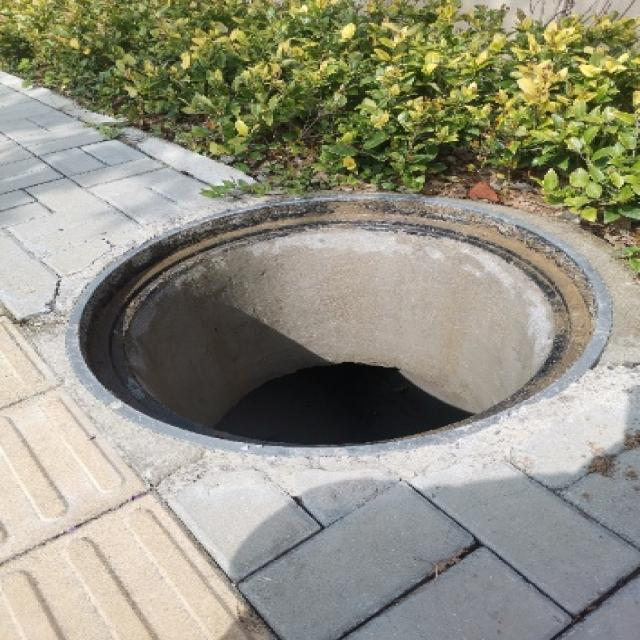Uncovered: (47, 175, 616, 456)
